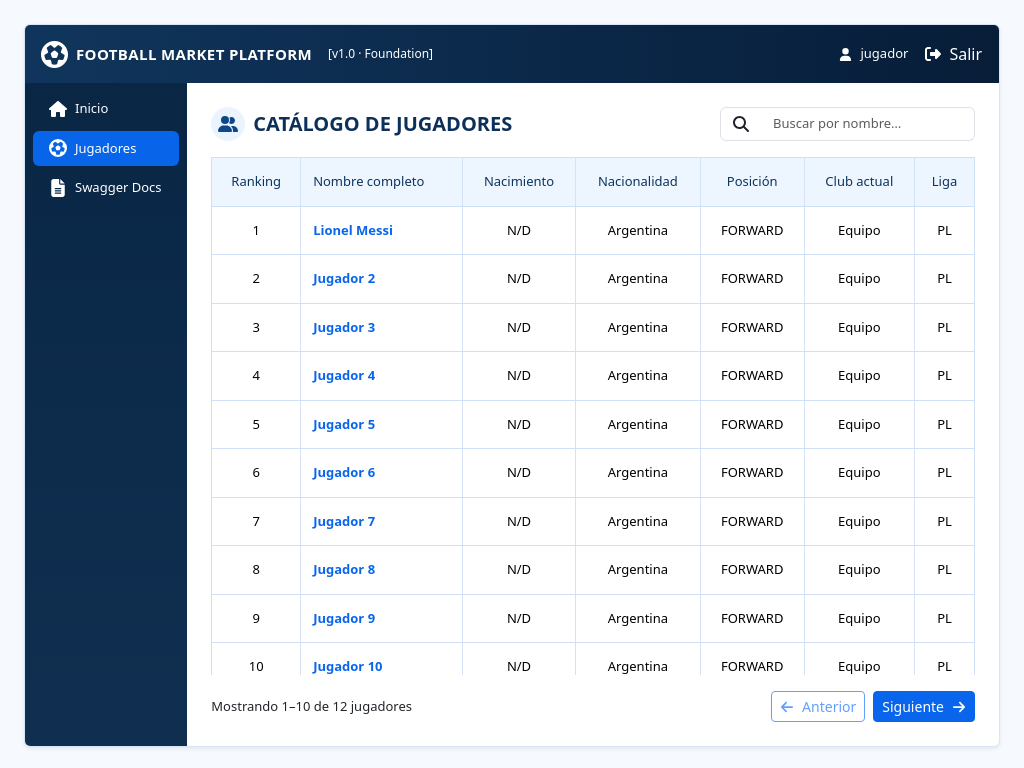
Scenario: catálogo de jugadores › permite paginar y buscar en el catálogo
Expected: the text "Mostrando 1–10 de 12 jugadores" is shown, [211,697,412,716]
Expected: the text "Julián Álvarez" is not shown
Click the button "Siguiente".
click(924, 706)  # box [873,691,975,722]
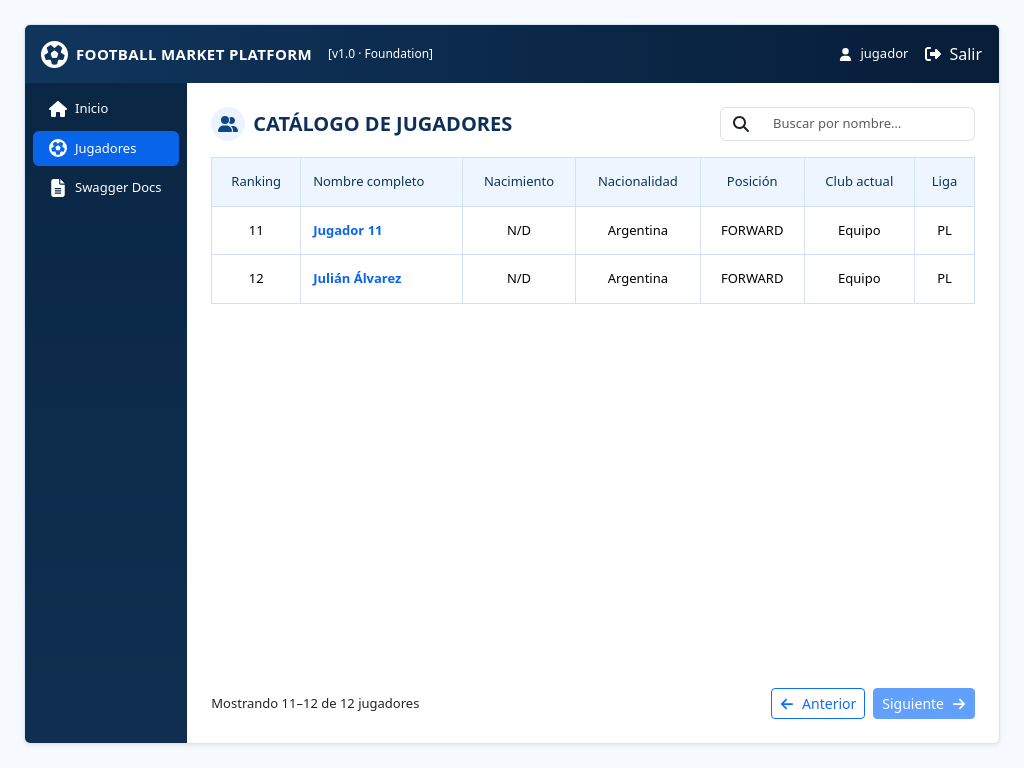
Now the button "Julián Álvarez" is shown, box [313,269,401,288]
Type "Messi" into the field named "Buscar jugador por nombre".
click(868, 124); type("Messi")  # box [761,107,975,141]
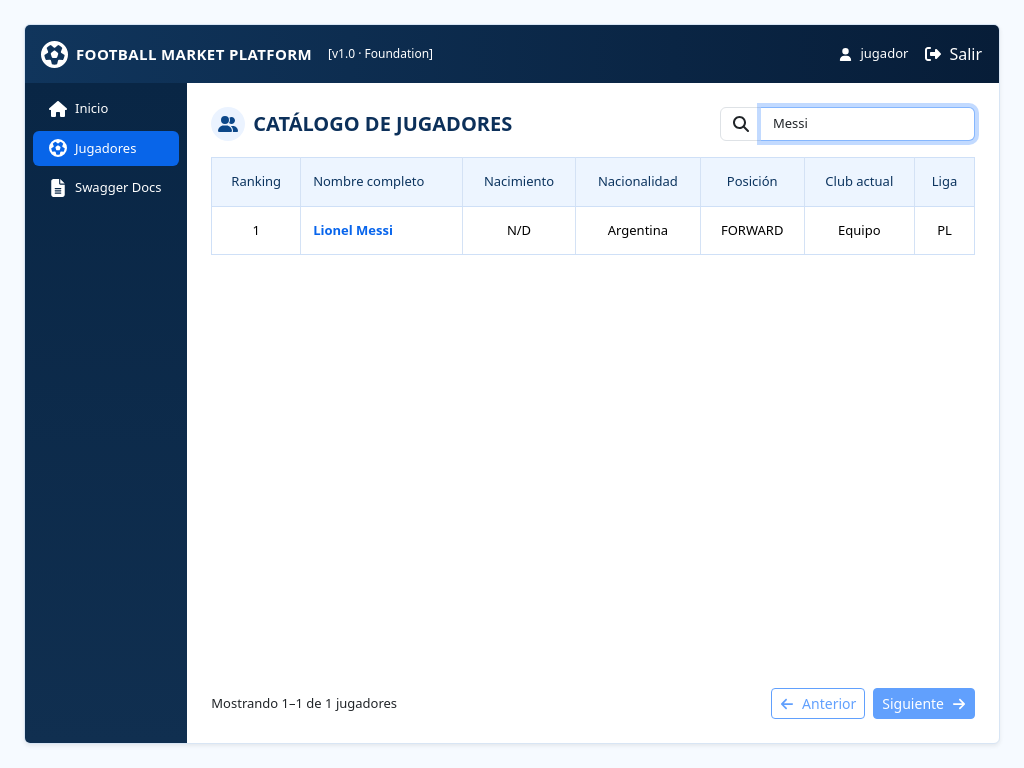
Now the button "Lionel Messi" is shown, box [313,220,393,240]
Now the text "Mostrando 1–1 de 1 jugadores" is shown, box [211,694,397,713]
